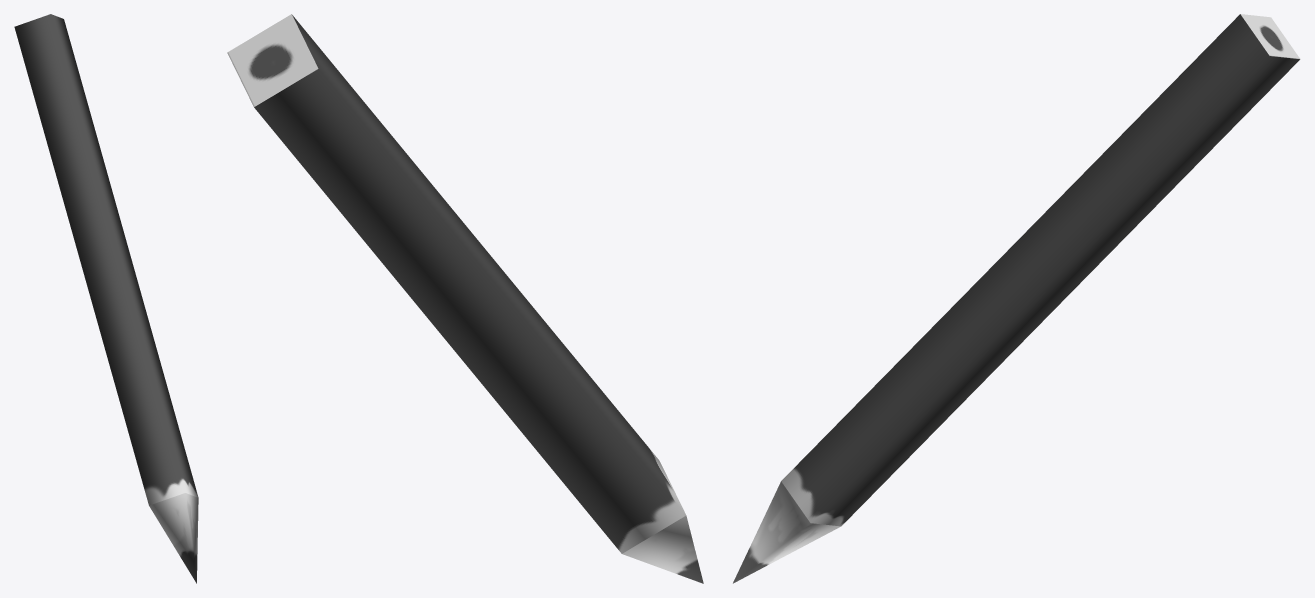
The model's file is obj_Pencil.fbx.
3 views of the same model, side by side, from view 1: azimuth 30°, elevation 25°; view 2: azimuth 150°, elevation 25°; view 3: azimuth 270°, elevation 25° (orthographic). The views are drawn at different scales.
Parts seen in each view (by area): view 1: obj_Pencil; view 2: obj_Pencil; view 3: obj_Pencil.
Boxes of the visible parts, x1,y1,x2,y2 form: obj_Pencil: (14,14,198,583); obj_Pencil: (227,14,703,583); obj_Pencil: (733,14,1300,583).
Size of the model in its own units: 0.0273 by 0.1402 by 0.1214.
